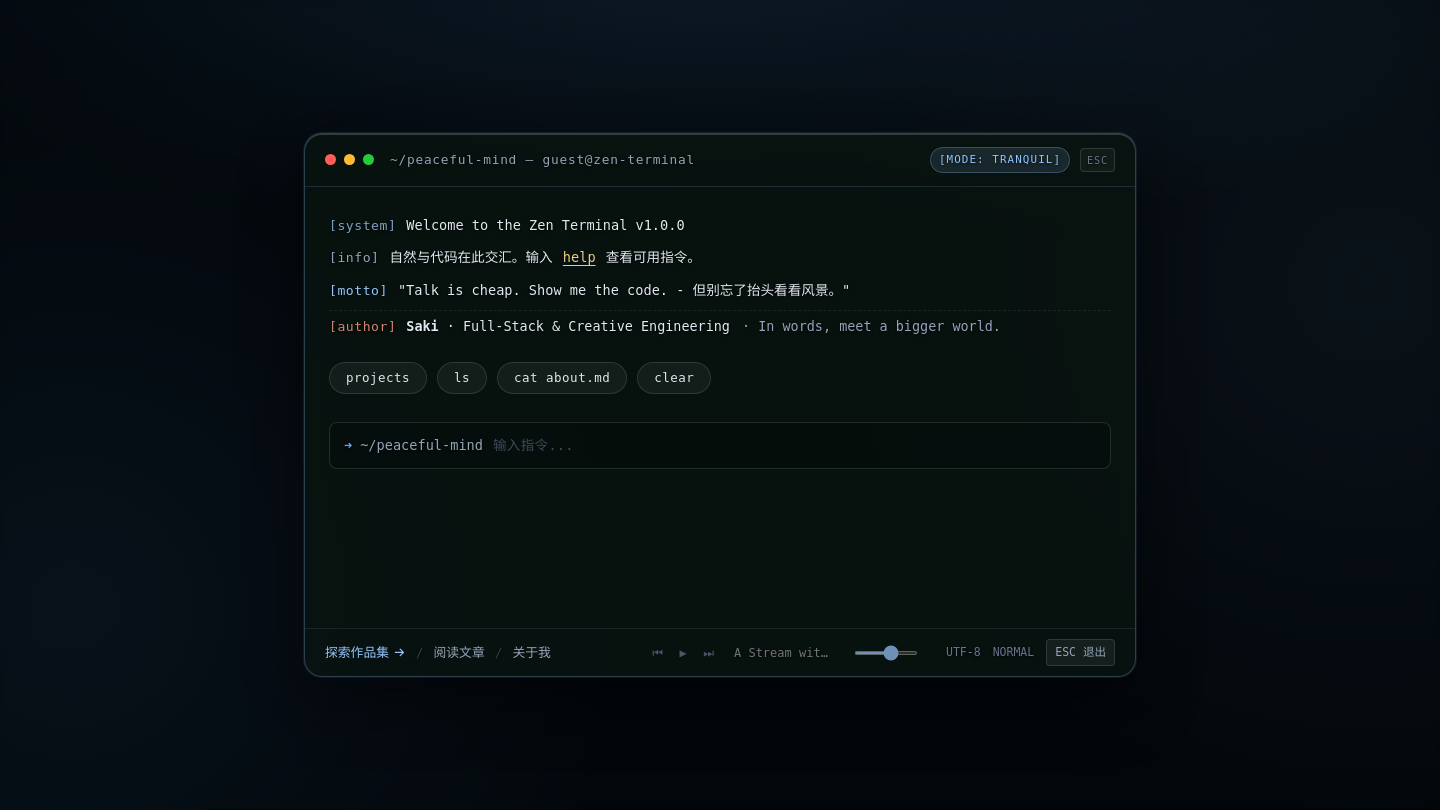
ZenTerminalModal › renders and responds to help command when opened
This screenshot has width=1440, height=810.
Type "help" into the field with class "cli-field" at (794,445), box [493,433,1096,458]
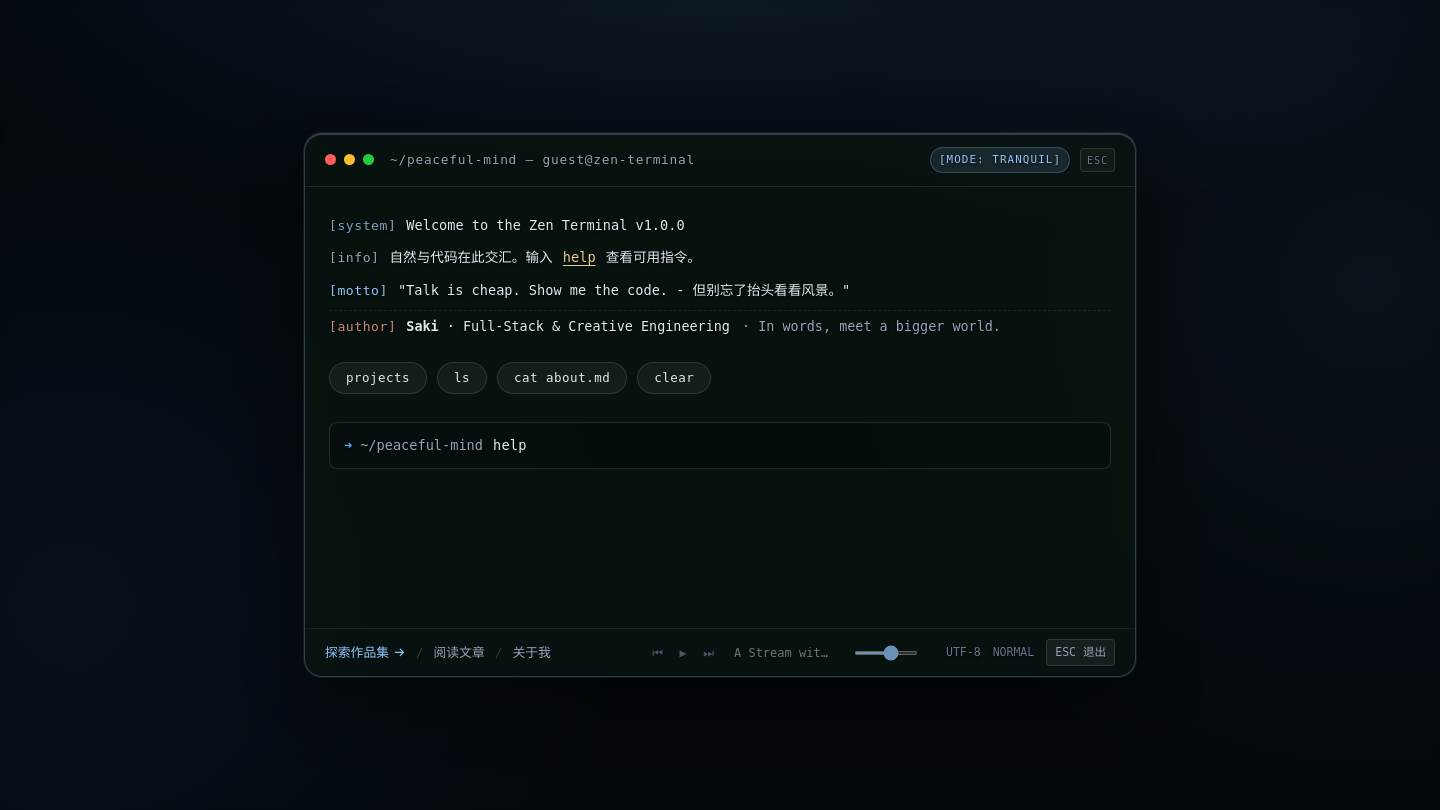
Submit the form with class "cli-input-row", box [329,422,1111,469]
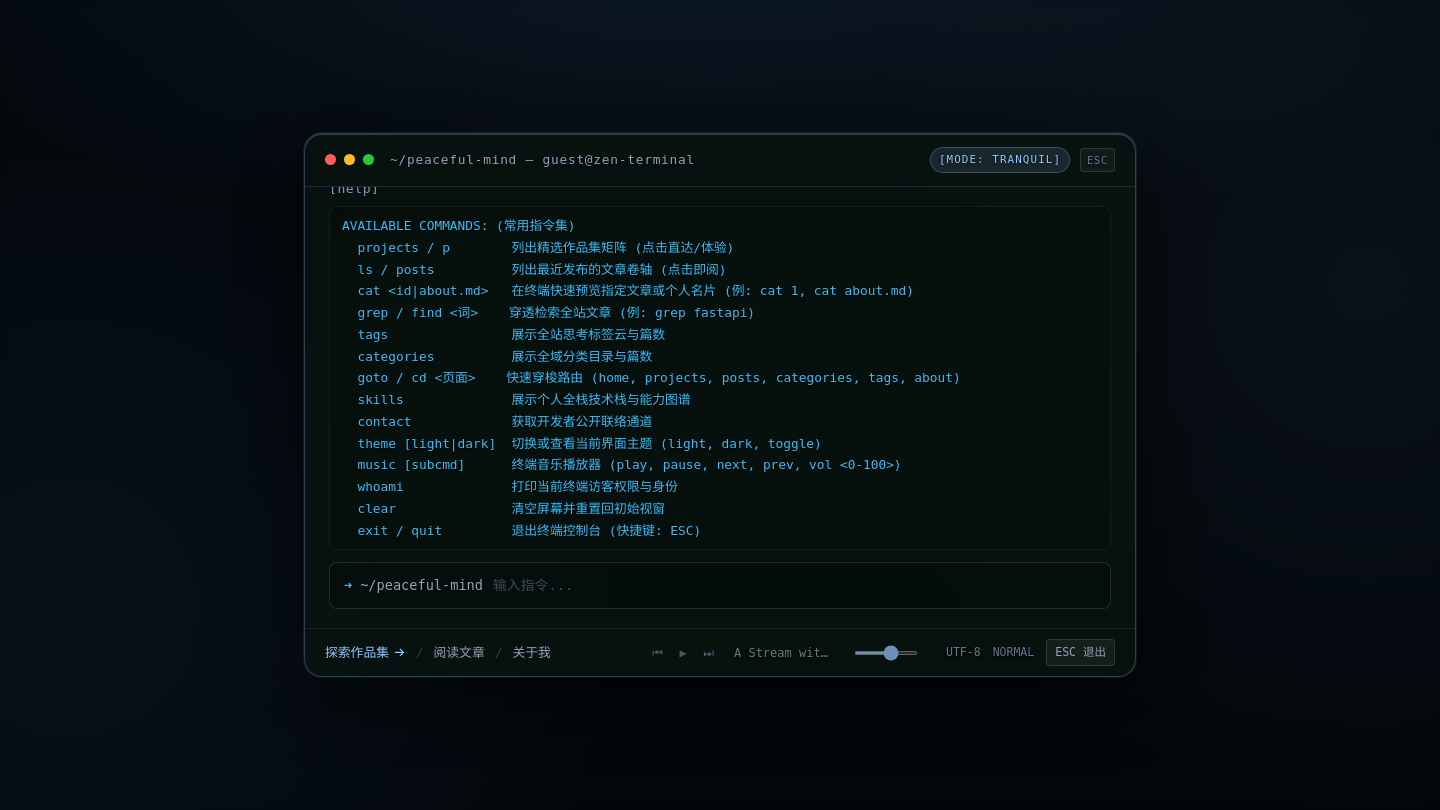
Now the text "AVAILABLE COMMANDS" is shown, box [342,218,961,538]
Now the text "ls / posts" is shown, box [342,218,961,538]
